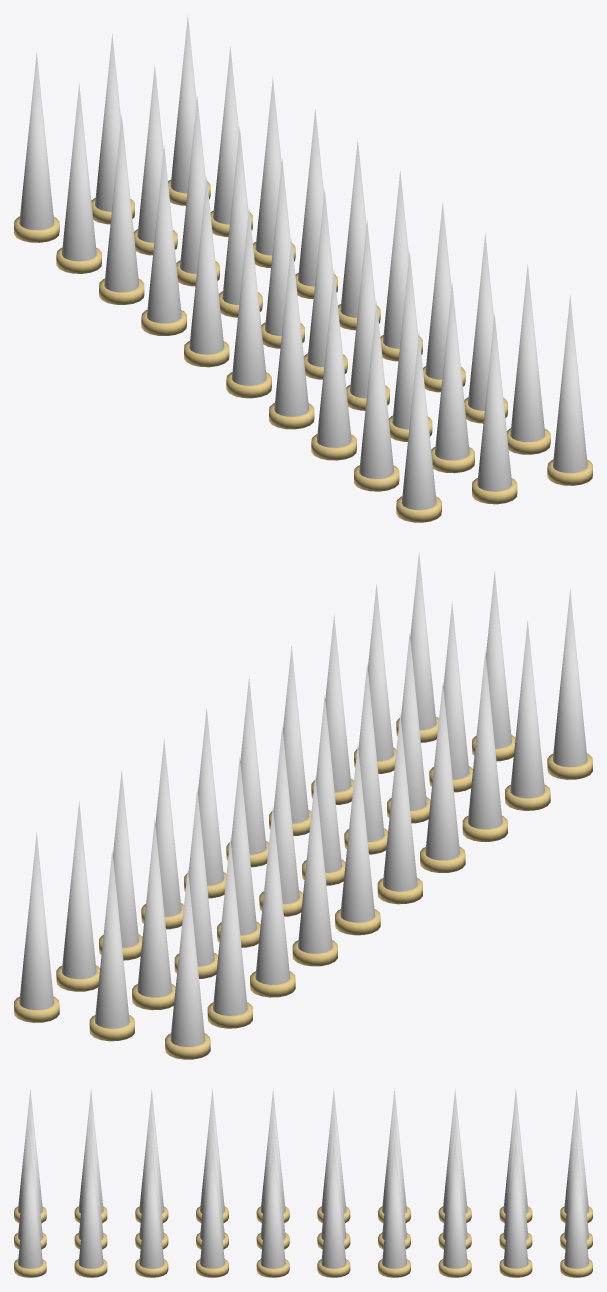
File: Spike.fbx
3 views of the same model, one above another, from view 1: azimuth 30°, elevation 25°; view 2: azimuth 150°, elevation 25°; view 3: azimuth 270°, elevation 25° (orthographic). The views are drawn at different scales.
Visible parts, largest first — view 1: Cylinder.005; view 2: Cylinder.005; view 3: Cylinder.005.
Boxes of the visible parts, x1,y1,x2,y2 form: Cylinder.005: (14, 15, 592, 522); Cylinder.005: (14, 552, 592, 1059); Cylinder.005: (14, 1088, 592, 1277).
Size of the model in its own units: 96 by 87.5 by 353.
